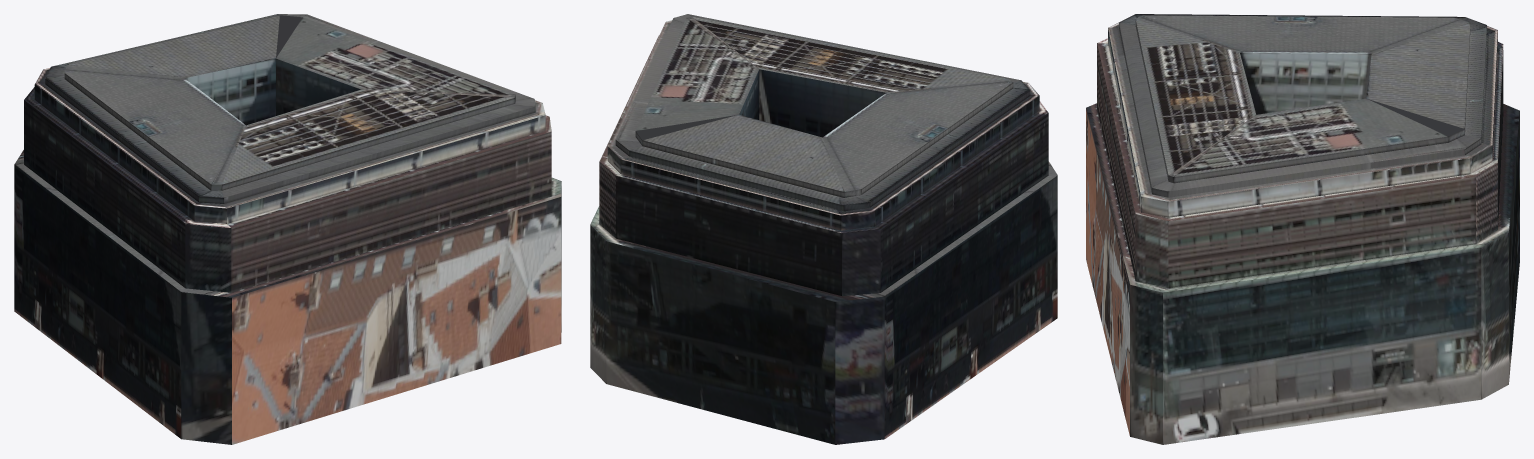
3 renders of one model, left to right at view 1: azimuth 30°, elevation 25°; view 2: azimuth 150°, elevation 25°; view 3: azimuth 270°, elevation 25°, orthographic. The views are drawn at different scales.
Visible parts, largest first — view 1: Z_UP; view 2: Z_UP; view 3: Z_UP.
Part boxes in pixels (x1,y1,x2,y2): Z_UP: (14,14,561,444); Z_UP: (590,14,1057,444); Z_UP: (1086,14,1519,444).
Bounding box in the file's own units: 43.38 × 25.31 × 39.5.
Materials: 2 (1 with a texture image).
